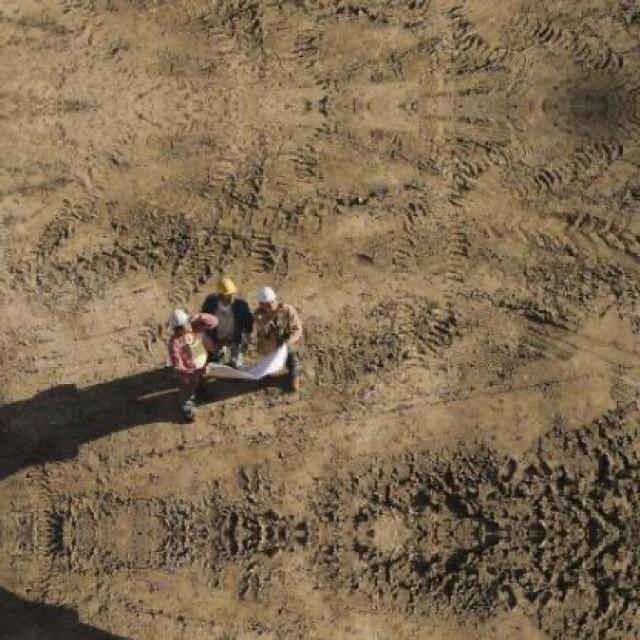helmet: (167, 307, 196, 335), (216, 279, 238, 307), (257, 287, 277, 313)
